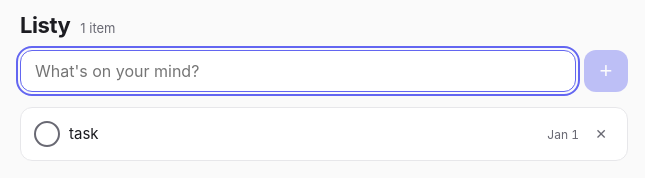
Test case: App › toggles done state and persists it
The image size is (645, 178).
Expected: the text "task" is shown, [69,124,99,143]
Click the button named "Mark as done" at (47, 134), box [25,112,69,156]
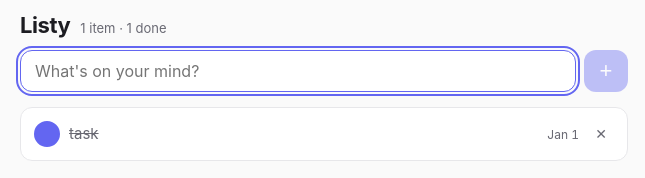
Result: the button named "Mark as not done" is shown
Result: the text "1 item · 1 done" is shown at [80,20,166,36]
Click the button named "Mark as not done" at (47, 134), box [25,112,69,156]
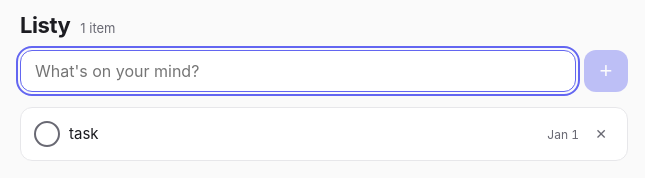
Result: the button named "Mark as done" is shown at [25,112,69,156]
